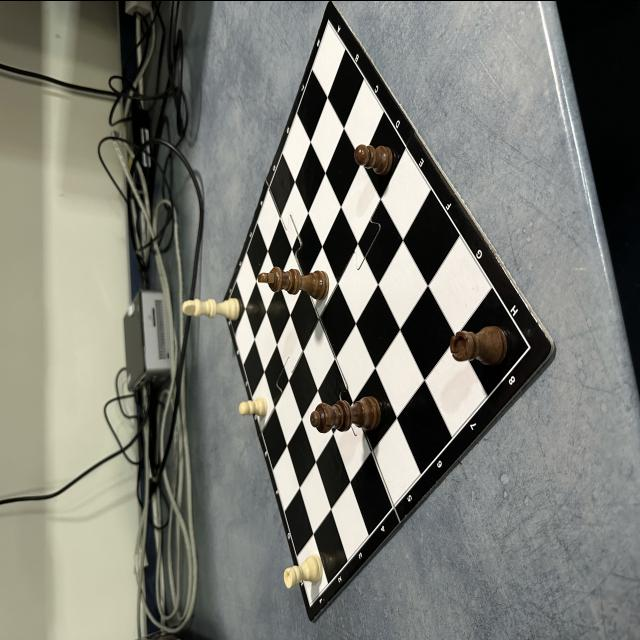Black-King: (258, 265, 330, 299)
Black-Pawn: (354, 144, 394, 174)
Black-Queen: (309, 394, 382, 434)
Black-Rook: (450, 326, 508, 366)
White-King: (182, 296, 240, 320)
White-Pawn: (238, 396, 267, 416)
White-Rook: (282, 552, 322, 588)
